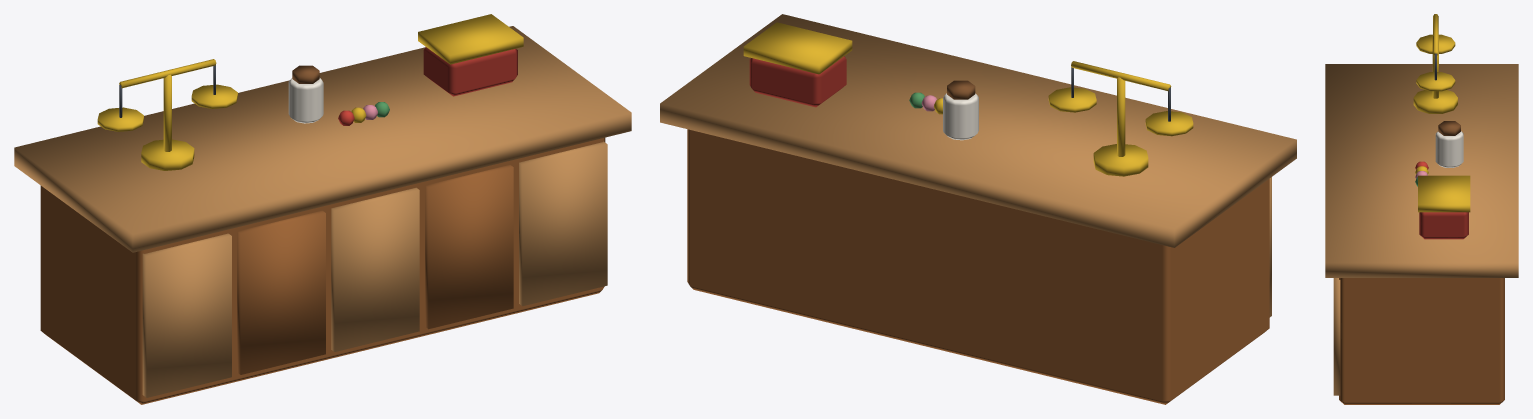
The model's file is shop_counter.glb.
3 views of the same model, side by side, from view 1: azimuth 30°, elevation 25°; view 2: azimuth 150°, elevation 25°; view 3: azimuth 270°, elevation 25° (orthographic). The views are drawn at different scales.
Visible parts, largest first — view 1: shop_counter; view 2: shop_counter; view 3: shop_counter.
Part boxes in pixels (box(x1,y1,x2,y2)): shop_counter: box(14, 14, 631, 404); shop_counter: box(660, 14, 1296, 404); shop_counter: box(1325, 14, 1518, 404).
Bounding box in the file's own units: 1.7 × 0.8887 × 0.7.
